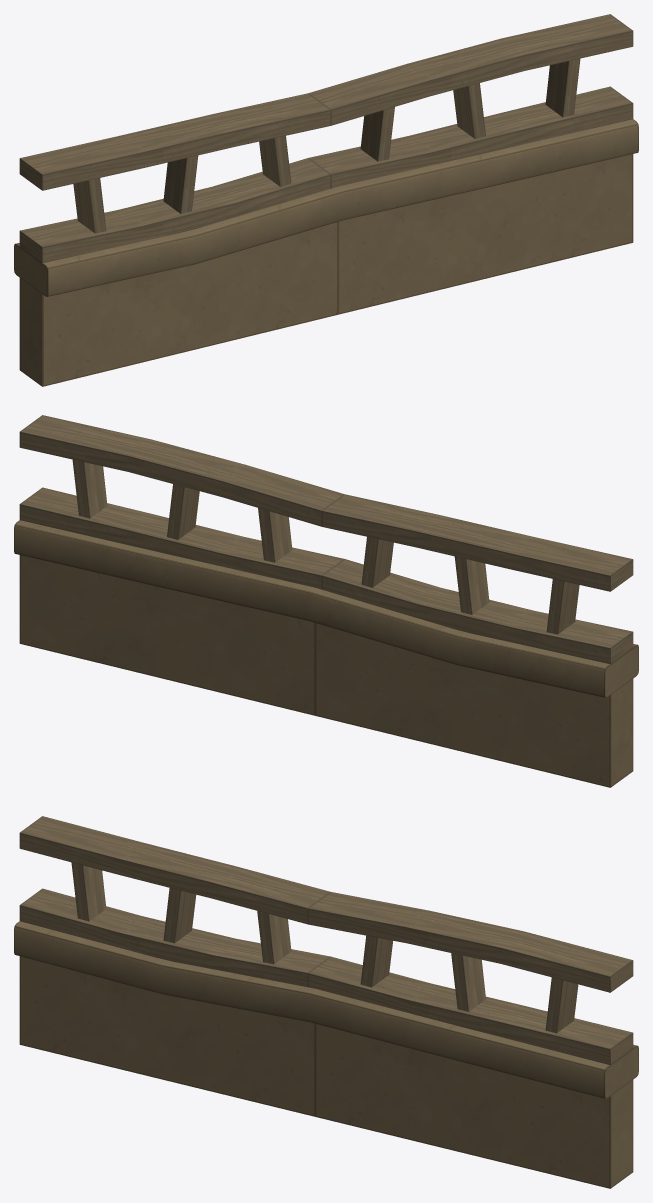
File: SM_building_fence_05.glb
The picture shows the model from 3 angles, top to bottom: view 1: azimuth 30°, elevation 25°; view 2: azimuth 150°, elevation 25°; view 3: azimuth 330°, elevation 25°; orthographic projection.
Visible parts, largest first — view 1: SM_building_fence_05; view 2: SM_building_fence_05; view 3: SM_building_fence_05.
Boxes of the visible parts, bbox=[...] form: SM_building_fence_05: bbox=[14, 14, 638, 386]; SM_building_fence_05: bbox=[14, 415, 638, 787]; SM_building_fence_05: bbox=[14, 816, 638, 1188].
Bounding box in the file's own units: 6 × 2.08 × 0.6.
Materials: 2 (2 with a texture image).
